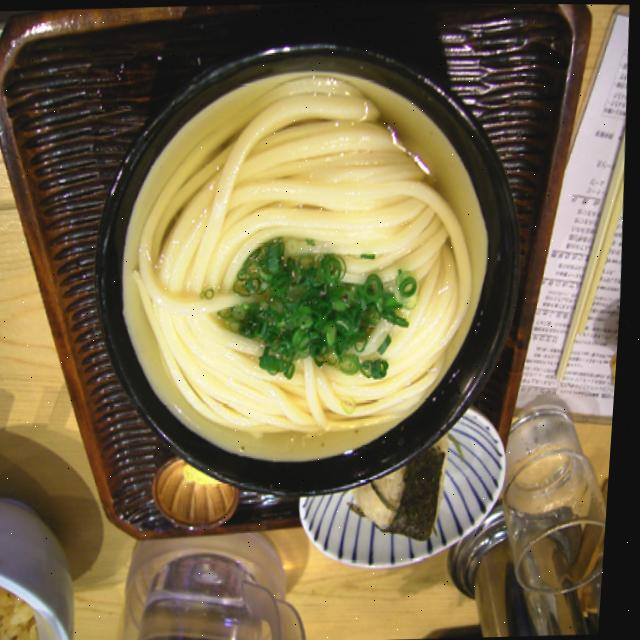面条主食: (85, 21, 536, 510)
